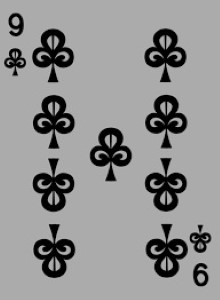NineOfClubs: (6, 8, 214, 286)
